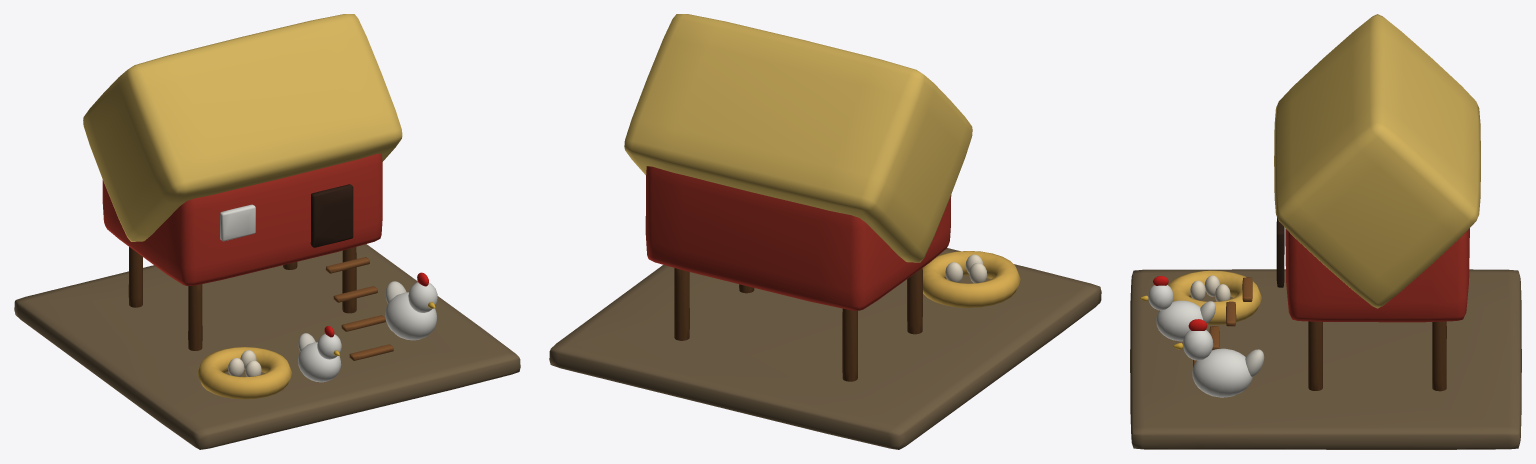
Rendered from Huehnerstall.fbx.
3 renders of one model, left to right at view 1: azimuth 30°, elevation 25°; view 2: azimuth 150°, elevation 25°; view 3: azimuth 270°, elevation 25°, orthographic. The views are drawn at different scales.
Parts seen in each view (by area): view 1: Huehnerstall; view 2: Huehnerstall; view 3: Huehnerstall.
Part boxes in pixels (x1,y1,x2,y2): Huehnerstall: (14, 14, 520, 449); Huehnerstall: (549, 14, 1101, 449); Huehnerstall: (1130, 14, 1521, 449).
Size of the model in its own units: 1.9 by 1.62 by 1.9.
